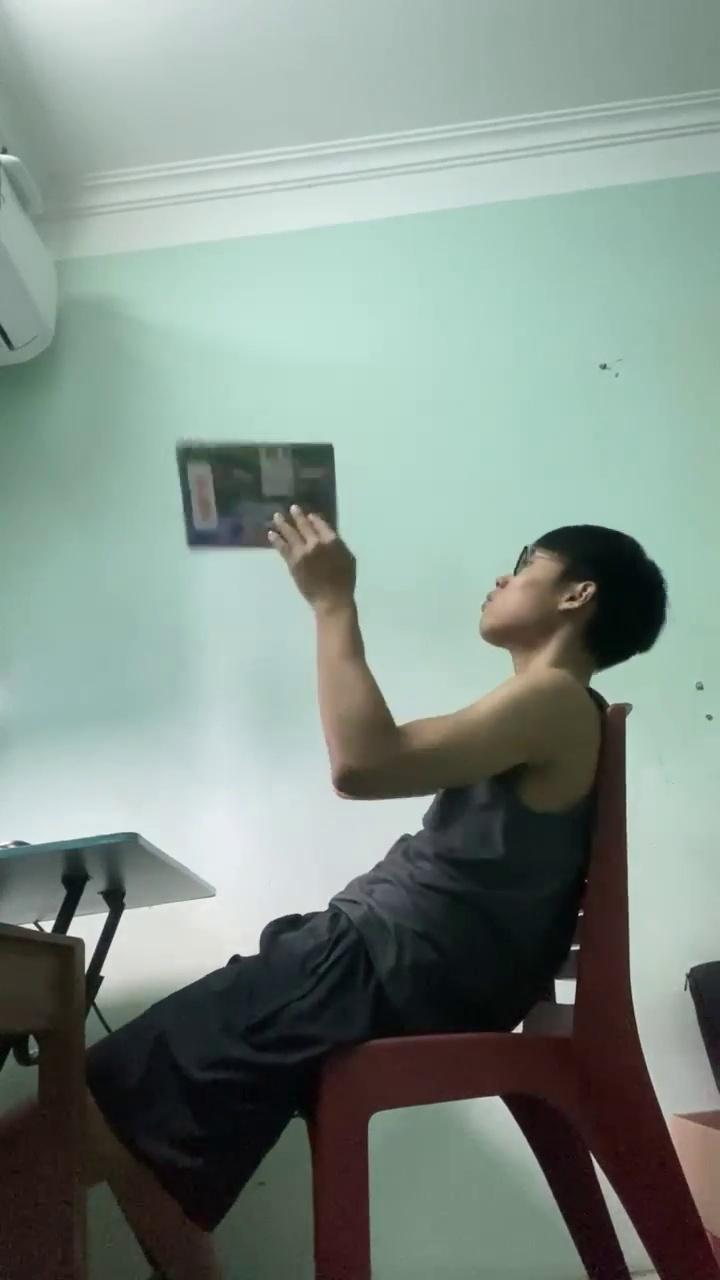BadPosture: (0, 521, 667, 1279), (269, 505, 666, 1032)
